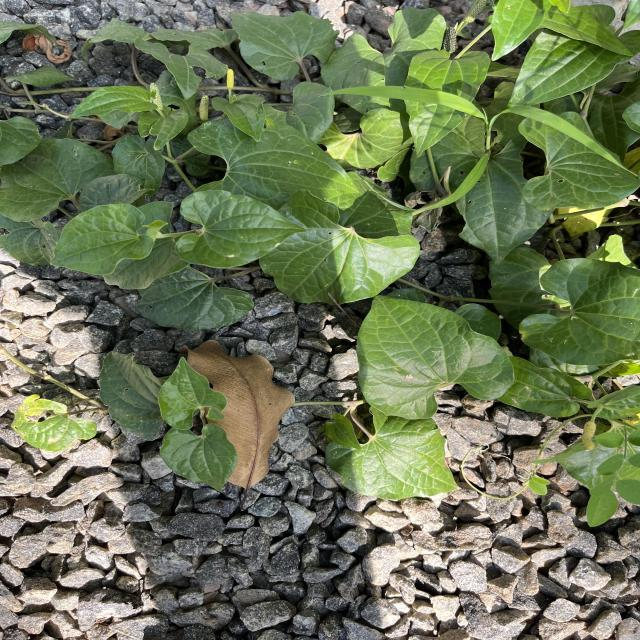Piper longum: (354, 293, 516, 422), (258, 188, 422, 307), (324, 417, 464, 502), (173, 188, 309, 269), (47, 202, 156, 278), (157, 421, 240, 496), (156, 355, 228, 431)
